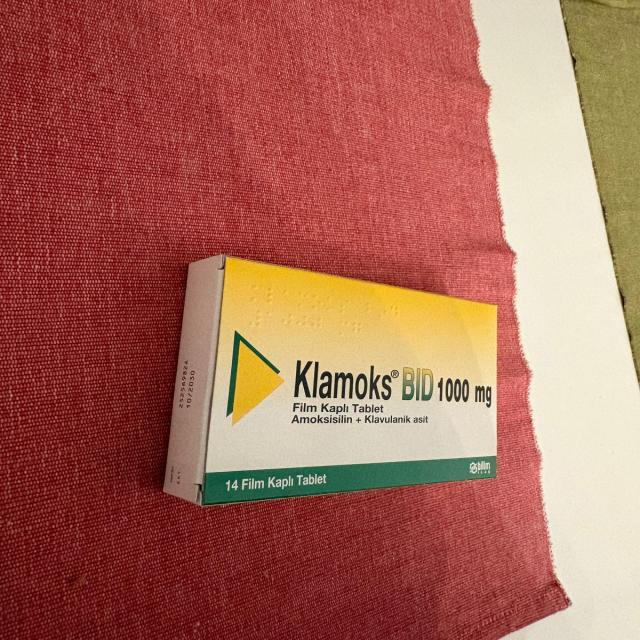good_package: (161, 253, 501, 506)
